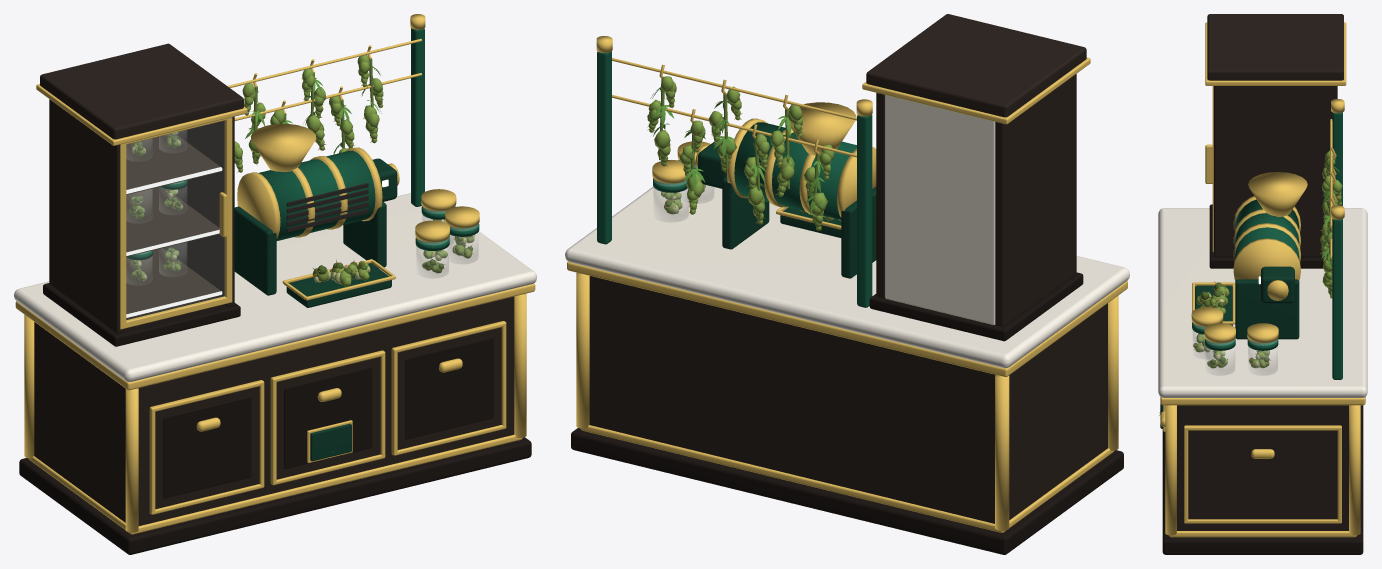
The model's file is harvest_bench_founder.glb.
3 renders of one model, left to right at view 1: azimuth 30°, elevation 25°; view 2: azimuth 150°, elevation 25°; view 3: azimuth 270°, elevation 25°, orthographic. The views are drawn at different scales.
Visible parts, largest first — view 1: Body, Top, CureGlass, CureSide-1, CureTop, Plinth, DrawerInset0, DrawerInset2, DrawerInset1, CureSide1, TrimDrum, TopBand (+39 smaller); view 2: Body, Top, CureBack, CureSide-1, CureTop, Plinth, TopBand, BaseBrass, TrimDrum, CureBase, LinePost-0.28, LinePost0.90 (+15 smaller); view 3: Top, CureSide1, EndDrawer, CureTop, Body, Plinth, TrimLeg1, DrumRing0.25, Hopper, LinePost0.90, TrimDrum, TopBand (+24 smaller).
Part boxes in pixels (x1,y1,x2,y2): Body: [34, 296, 514, 525]; Top: [14, 193, 536, 382]; CureGlass: [127, 121, 224, 319]; CureSide-1: [49, 99, 124, 333]; CureTop: [40, 43, 243, 139]; Plinth: [19, 437, 531, 554]; DrawerInset0: [163, 396, 251, 498]; DrawerInset2: [405, 337, 493, 439]; DrawerInset1: [284, 367, 372, 468]; CureSide1: [163, 116, 234, 306]; TrimDrum: [259, 150, 375, 240]; TopBand: [15, 283, 535, 390]; Body: [589, 276, 1107, 523]; Top: [565, 185, 1129, 368]; CureBack: [885, 95, 995, 324]; CureSide-1: [995, 74, 1076, 326]; CureTop: [866, 14, 1086, 117]; Plinth: [571, 428, 1123, 554]; TopBand: [567, 261, 1127, 377]; BaseBrass: [581, 425, 1113, 532]; TrimDrum: [734, 122, 856, 219]; CureBase: [869, 272, 1083, 341]; LinePost-0.28: [857, 115, 872, 307]; LinePost0.90: [597, 51, 611, 244]; Top: [1158, 208, 1367, 397]; CureSide1: [1214, 86, 1337, 257]; EndDrawer: [1188, 430, 1337, 519]; CureTop: [1207, 14, 1343, 80]; Body: [1177, 405, 1348, 530]; Plinth: [1162, 405, 1363, 554]; TrimLeg1: [1235, 279, 1299, 339]; DrumRing0.25: [1233, 238, 1300, 280]; Hopper: [1248, 172, 1307, 216]; LinePost0.90: [1332, 219, 1342, 379]; TrimDrum: [1235, 199, 1299, 259]; TopBand: [1160, 397, 1365, 405].
Bounding box in the file's own units: 2.02 × 1.91 × 0.98.
